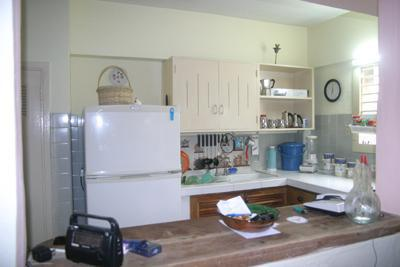Electrodomestico: (85, 108, 183, 216)
